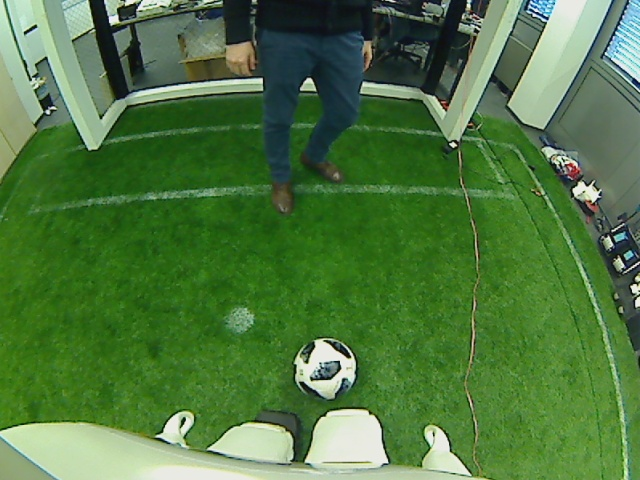ball: (291, 334, 359, 403)
